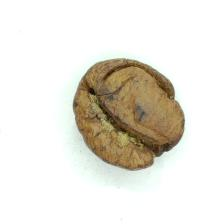NG: (85, 58, 182, 156)
